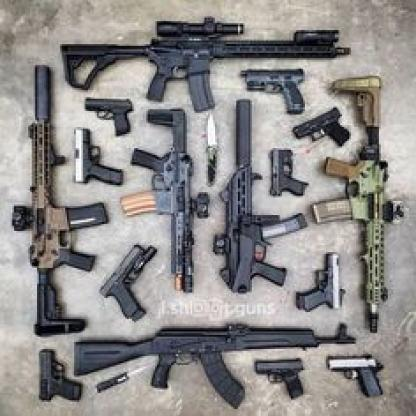Gun: (60, 14, 352, 112), (10, 64, 112, 338), (72, 321, 356, 412), (312, 76, 406, 333), (213, 99, 308, 295), (119, 107, 209, 296)
Knife: (95, 365, 150, 394), (206, 111, 220, 186)
Pistol: (99, 243, 158, 323), (239, 66, 309, 116), (294, 250, 346, 314), (73, 126, 125, 189), (326, 352, 384, 400), (292, 105, 352, 150), (254, 356, 307, 402), (38, 346, 82, 400), (82, 95, 136, 138), (268, 146, 308, 199)
